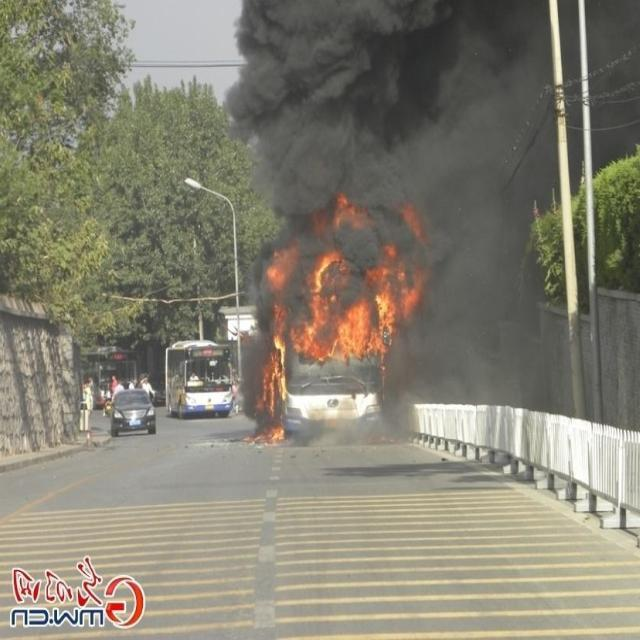fire: (252, 195, 426, 440)
smoke: (226, 0, 543, 400)
